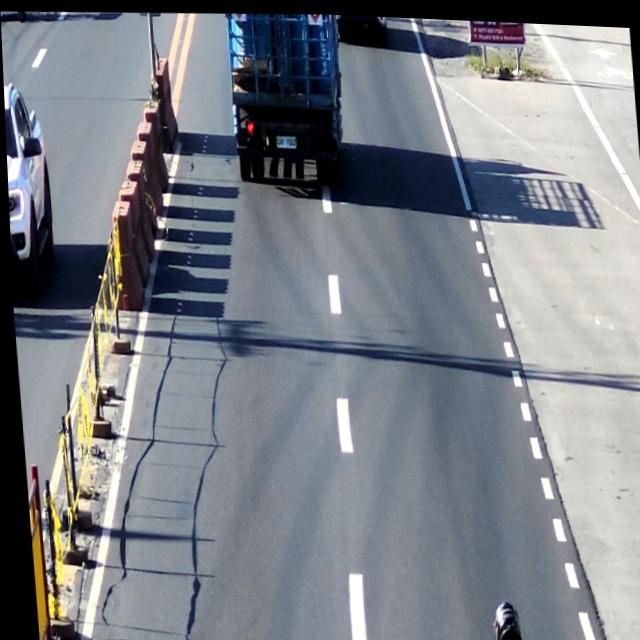License-Plate: (274, 130, 297, 150)
Motorcycle: (469, 590, 521, 640)
Truck: (228, 8, 348, 180)
